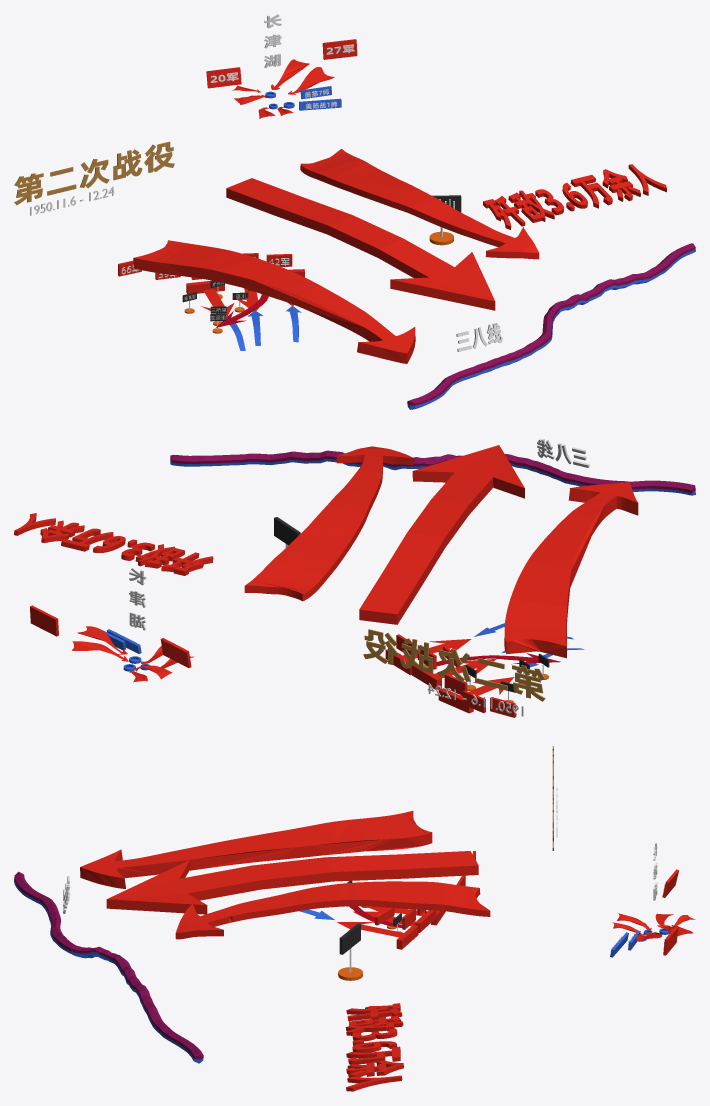
Rendered from 2-animate.glb.
The picture shows the model from 3 angles, top to bottom: view 1: azimuth 30°, elevation 25°; view 2: azimuth 150°, elevation 25°; view 3: azimuth 270°, elevation 25°; orthographic projection. The views are drawn at different scales.
Visible parts, largest first — view 1: 贝塞尔曲线.112, 贝塞尔曲线.110, 贝塞尔曲线.111, 文本.015, 38line1, 文本.013, 立方体.019, 立方体.021; view 2: 贝塞尔曲线.112, 贝塞尔曲线.110, 贝塞尔曲线.111, 38line1, 文本.015, 文本.013, 文本.017, 文本.012, 立方体.021, 立方体.019, 文本.014, 贝塞尔曲线.006 (+1 smaller); view 3: 贝塞尔曲线.112, 贝塞尔曲线.110, 贝塞尔曲线.111, 文本.015, 38line1, 柱体.009.
Part boxes in pixels (x1,y1,x2,y2): 贝塞尔曲线.112: (226, 178, 495, 310); 贝塞尔曲线.110: (133, 240, 415, 363); 贝塞尔曲线.111: (300, 149, 539, 259); 文本.015: (483, 164, 666, 229); 38line1: (407, 243, 695, 409); 文本.013: (14, 141, 174, 205); 立方体.019: (206, 67, 241, 88); 立方体.021: (322, 39, 357, 59); 贝塞尔曲线.112: (359, 445, 524, 624); 贝塞尔曲线.110: (504, 482, 638, 658); 贝塞尔曲线.111: (244, 446, 413, 601); 38line1: (170, 450, 695, 495); 文本.015: (14, 513, 213, 575); 文本.013: (363, 629, 545, 701); 文本.017: (537, 438, 589, 467); 文本.012: (129, 567, 146, 630); 立方体.021: (30, 605, 58, 636); 立方体.019: (160, 638, 191, 668); 文本.014: (427, 683, 523, 716); 贝塞尔曲线.006: (426, 653, 560, 666); 贝塞尔曲线.112: (106, 851, 478, 914); 贝塞尔曲线.110: (80, 810, 432, 888); 贝塞尔曲线.111: (175, 881, 490, 939); 文本.015: (345, 1003, 403, 1091); 38line1: (14, 871, 203, 1063); 柱体.009: (338, 923, 362, 980).
Size of what is drawn, in the model's own units: 44.83 by 12.42 by 47.22.
